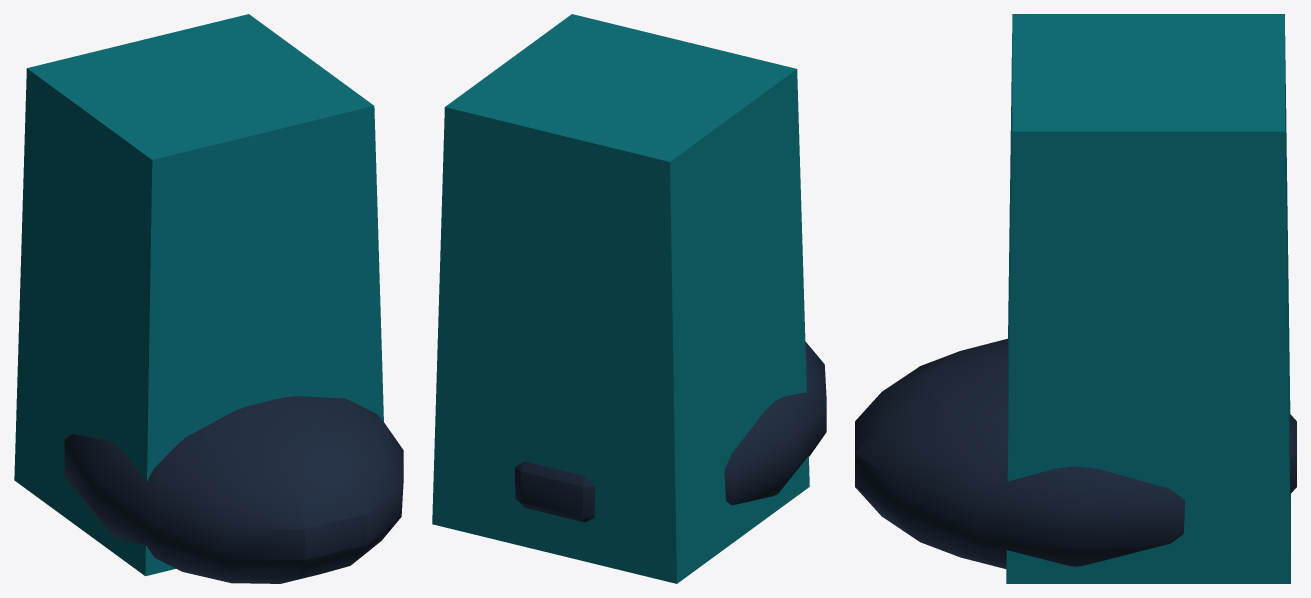
The model's file is RightLeg.glb.
3 renders of one model, left to right at view 1: azimuth 30°, elevation 25°; view 2: azimuth 150°, elevation 25°; view 3: azimuth 270°, elevation 25°, orthographic. The views are drawn at different scales.
Visible parts, largest first — view 1: leg, toe; view 2: leg, toe; view 3: leg, toe.
Part boxes in pixels (x1,y1,x2,y2): leg: (14,14,383,576); toe: (64,396,403,583); leg: (432,14,809,583); toe: (515,341,826,522); leg: (1006,14,1290,583); toe: (855,338,1296,568).
Size of the model in its own units: 0.8225 by 1.25 by 1.05.
